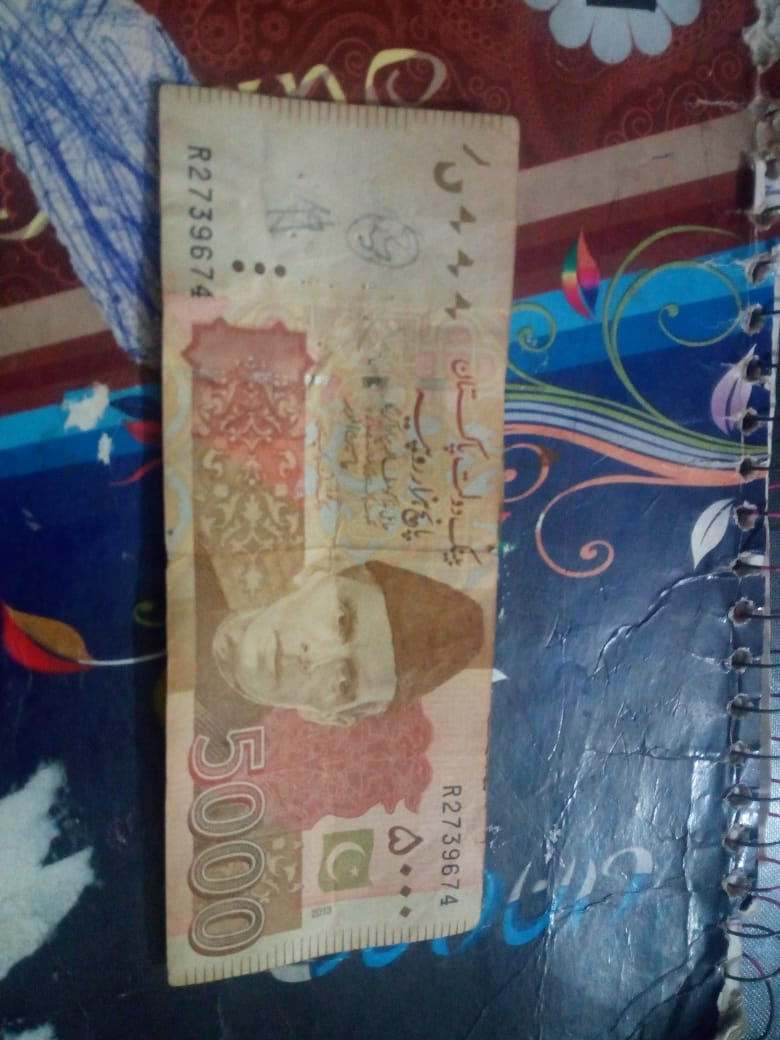5000 rupee: (144, 49, 501, 1009)
